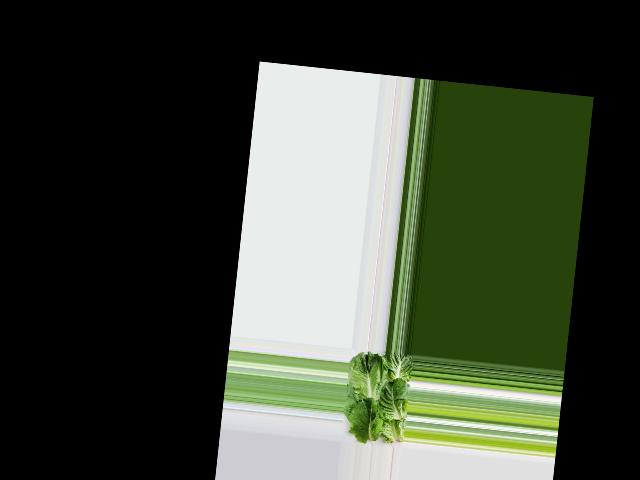lettuce: (343, 350, 414, 445)
